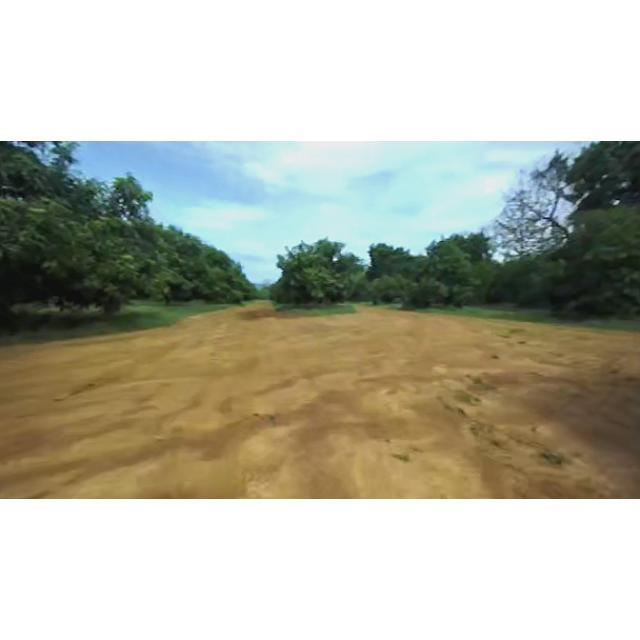tree: (1, 143, 166, 330), (490, 167, 590, 315), (560, 202, 640, 324), (268, 232, 354, 310), (421, 230, 481, 312), (374, 264, 442, 312)
